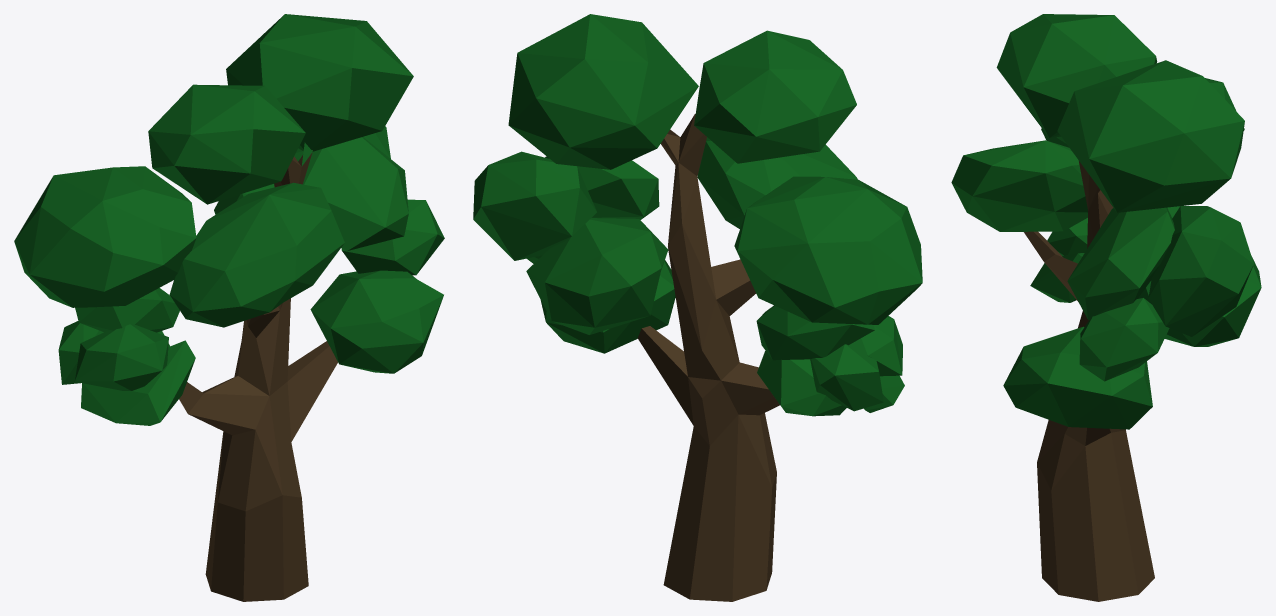
Rendered from OakTree.fbx.
3 views of the same model, side by side, from view 1: azimuth 30°, elevation 25°; view 2: azimuth 150°, elevation 25°; view 3: azimuth 270°, elevation 25° (orthographic). The views are drawn at different scales.
Visible parts, largest first — view 1: OakTree; view 2: OakTree; view 3: OakTree.
Part boxes in pixels (x1=…): OakTree: x1=14, y1=14, x2=444, y2=601; OakTree: x1=473, y1=14, x2=922, y2=601; OakTree: x1=951, y1=14, x2=1261, y2=601.
Bounding box in the file's own units: 174 × 214 × 110.
